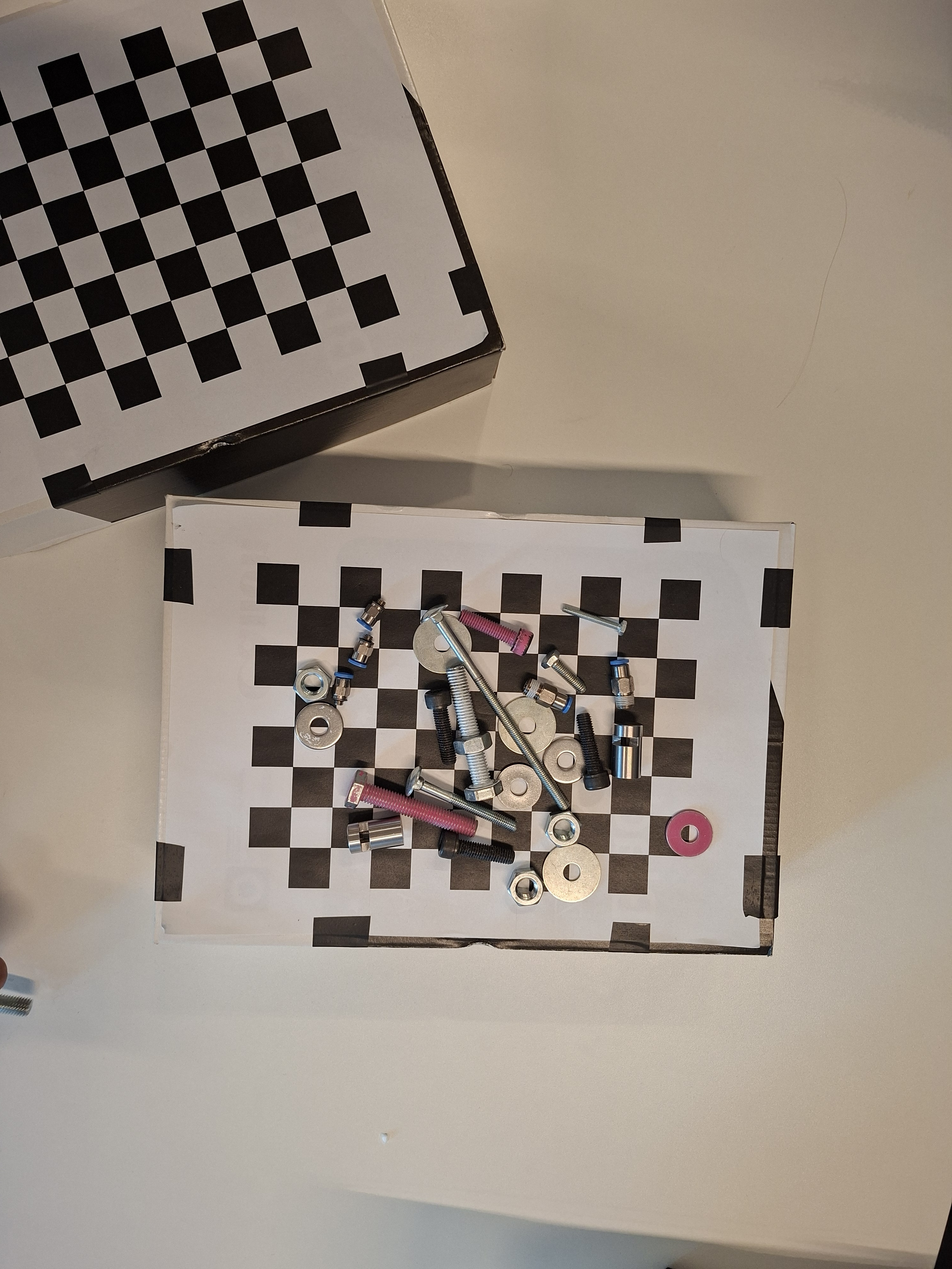allen_screw: (452, 599, 537, 660), (421, 684, 467, 769), (567, 711, 613, 795), (434, 829, 517, 871)
barrel_nut: (341, 811, 412, 858), (606, 718, 646, 779)
carriage_bolt: (412, 594, 583, 820), (398, 761, 526, 842)
hex_bolt: (338, 764, 484, 849), (436, 662, 506, 804), (556, 595, 630, 639), (536, 644, 592, 700)
hex_nut: (538, 804, 588, 854), (288, 659, 339, 708), (504, 865, 550, 909), (450, 729, 495, 757)
pneumatic_fitting: (603, 655, 641, 713), (353, 593, 393, 634), (344, 629, 381, 672), (328, 668, 355, 708)
washer: (489, 687, 569, 767), (408, 610, 480, 680), (538, 839, 606, 905), (534, 727, 600, 792), (487, 755, 549, 818), (658, 805, 718, 861), (290, 698, 346, 754)
